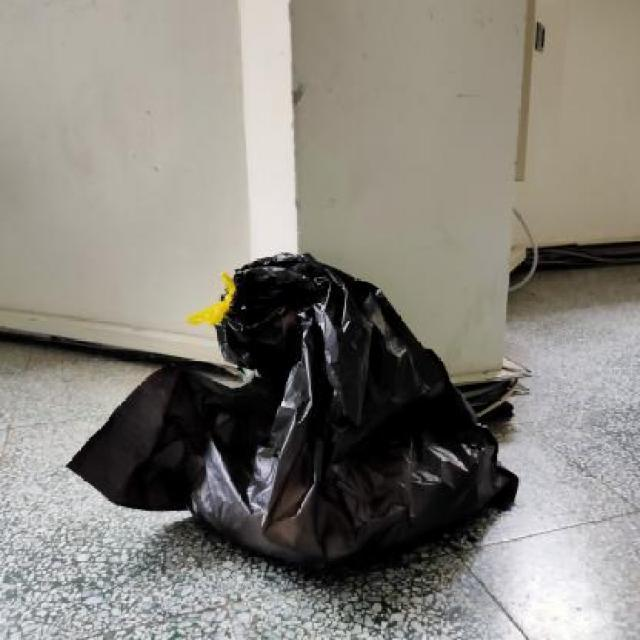waste: (49, 208, 542, 596)
